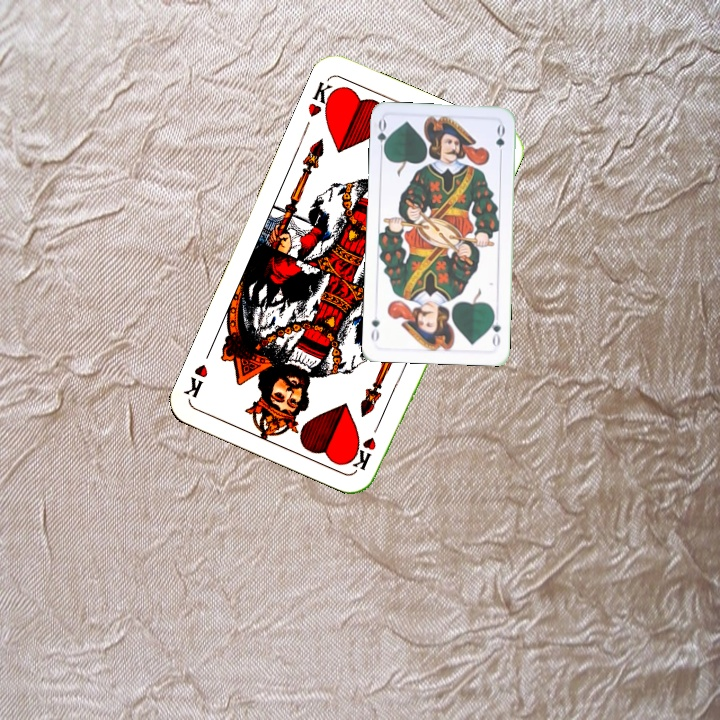GO: (373, 116, 392, 157), (486, 309, 503, 350)
HK: (350, 415, 385, 473), (304, 76, 341, 121)
